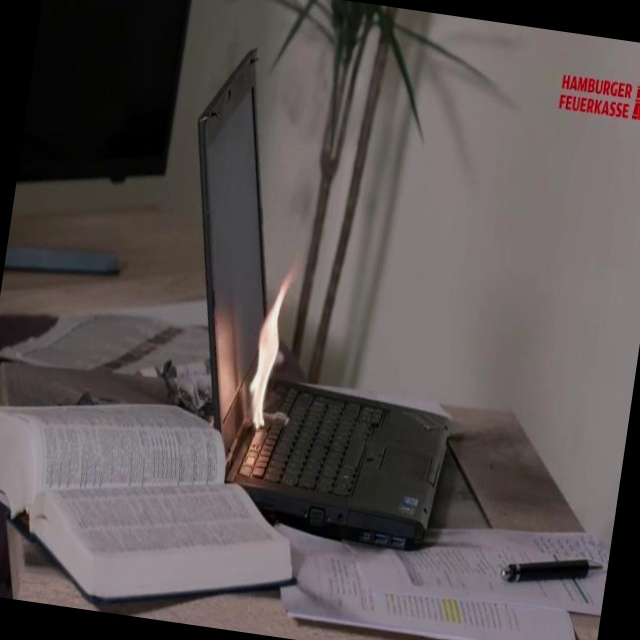fire: (223, 266, 312, 440)
